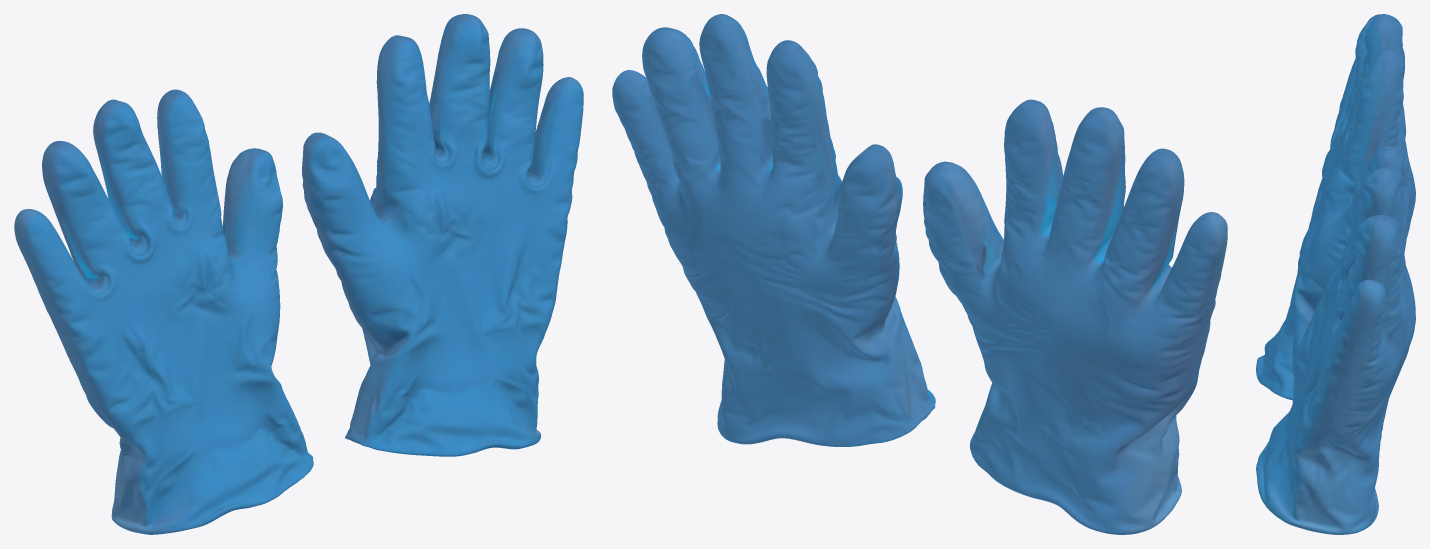
File: blue_nitrile5M.glb
3 renders of one model, left to right at view 1: azimuth 30°, elevation 25°; view 2: azimuth 150°, elevation 25°; view 3: azimuth 270°, elevation 25°, orthographic. The views are drawn at different scales.
Visible parts, largest first — view 1: Mesh_0; view 2: Mesh_0; view 3: Mesh_0.
Part boxes in pixels (x1=…): Mesh_0: x1=14, y1=14, x2=583, y2=534; Mesh_0: x1=612, y1=14, x2=1227, y2=534; Mesh_0: x1=1256, y1=14, x2=1415, y2=534.
Bounding box in the file's own units: 7.35 × 5 × 2.03.
1 material, 1 textured.
